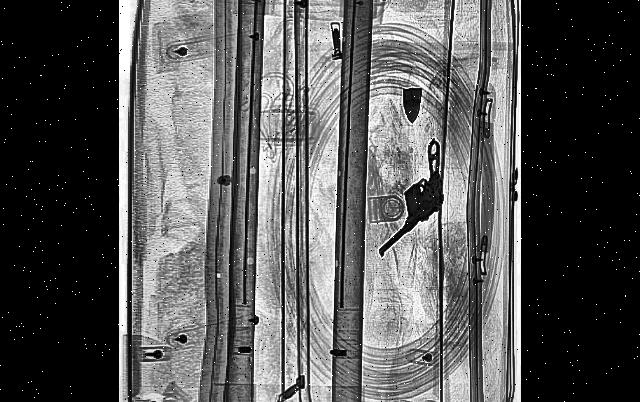Gun: (363, 134, 457, 260)
